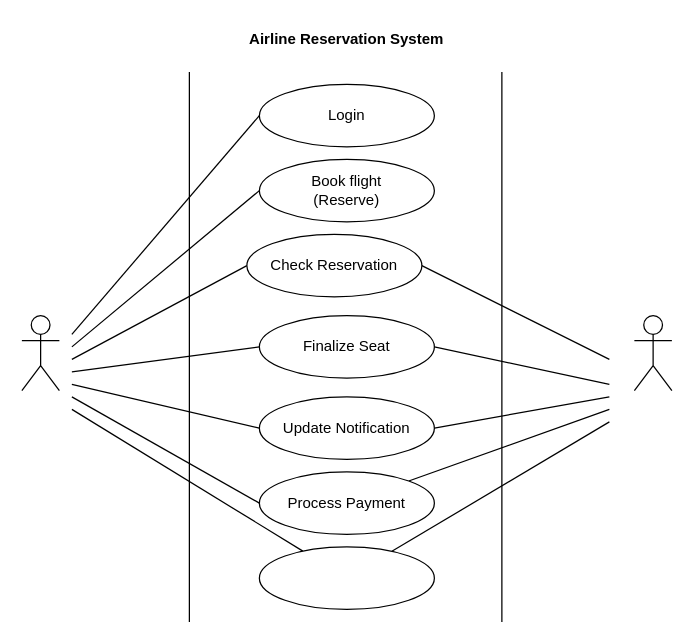
Some shapes in this 695 by 644 pixel diagram are drawn without their labels. The centre of each missing label's shape, as x and y in pixels:
Airline admin: (652,352)
Download Ticket: (346,577)
User: (40,352)
